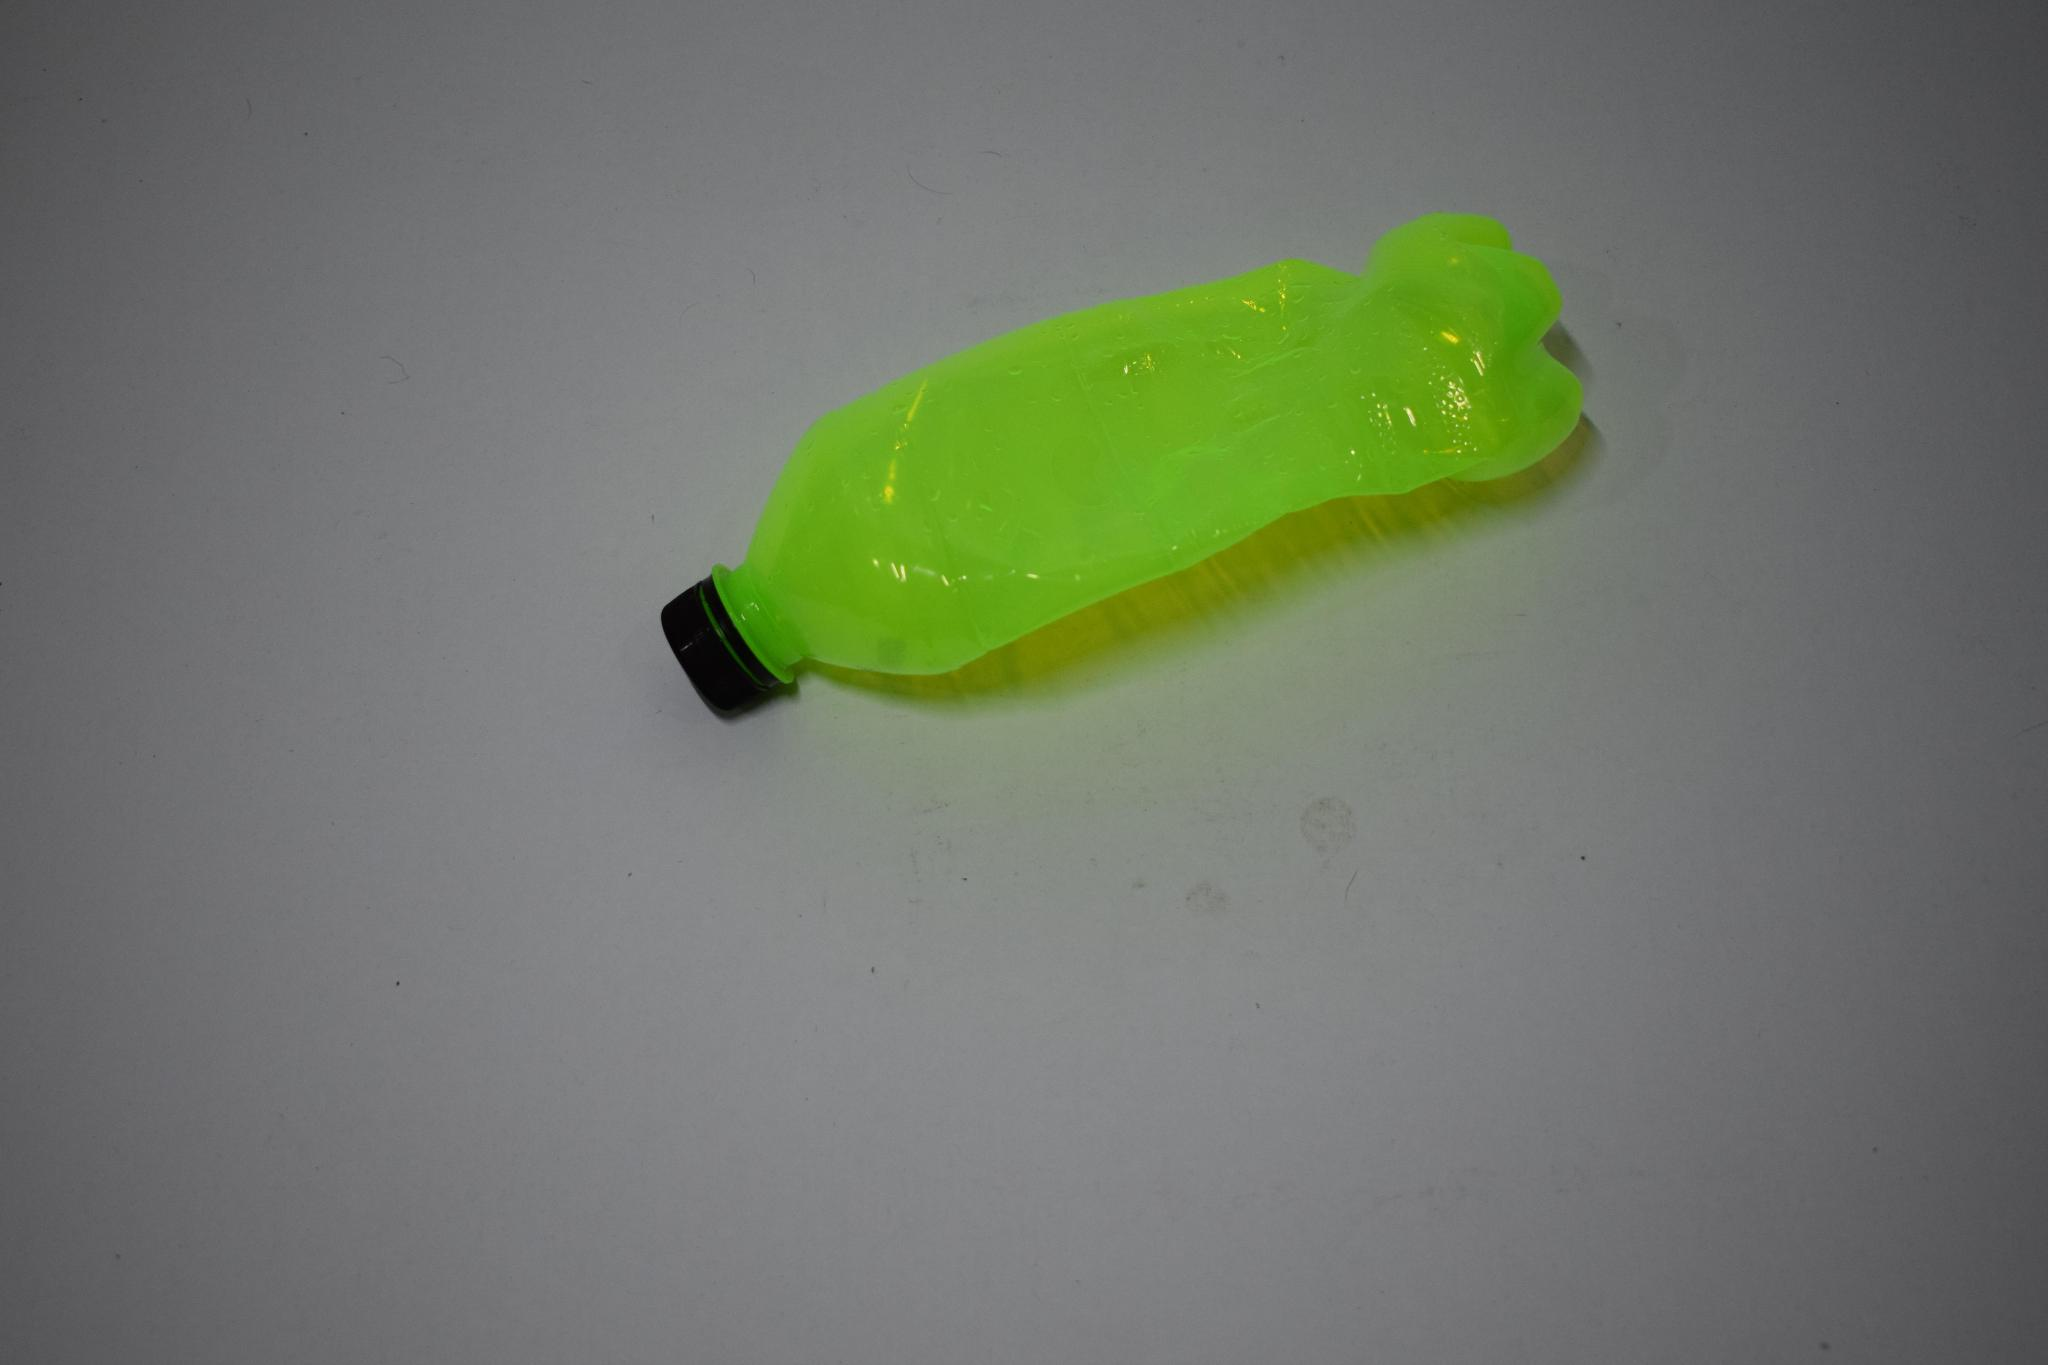bottle: (656, 213, 1632, 731)
